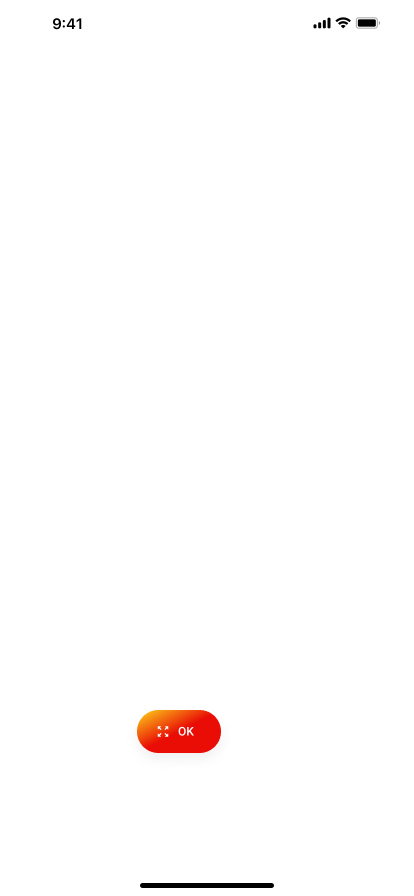Buttons: (122, 701, 236, 774)
Home Indicator: (0, 862, 414, 896)
Status Bar: (0, 0, 414, 44)
